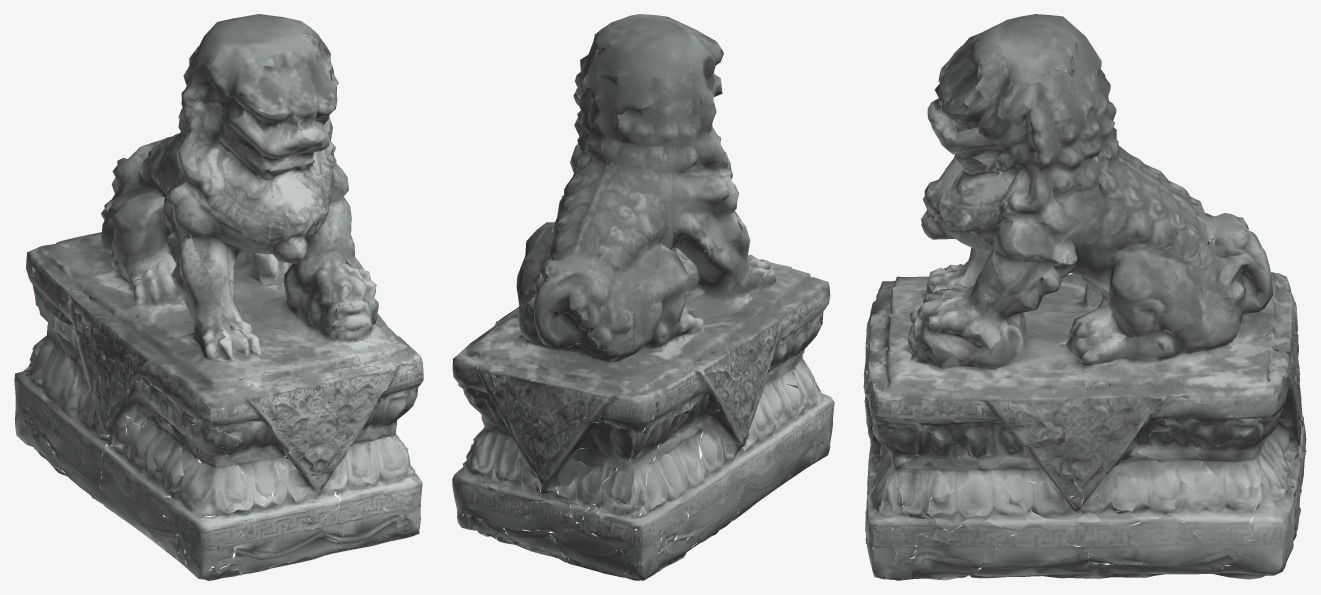
The model's file is stone-lion-male.glb.
3 renders of one model, left to right at view 1: azimuth 30°, elevation 25°; view 2: azimuth 150°, elevation 25°; view 3: azimuth 270°, elevation 25°, orthographic. The views are drawn at different scales.
Visible parts, largest first — view 1: LionMale; view 2: LionMale; view 3: LionMale.
Part boxes in pixels (x1=…): LionMale: x1=14, y1=14, x2=423, y2=580; LionMale: x1=452, y1=14, x2=834, y2=580; LionMale: x1=863, y1=14, x2=1306, y2=580.
Size of the model in its own units: 0.5569 by 1.08 by 0.8435.
Materials: 1 (1 with a texture image).
